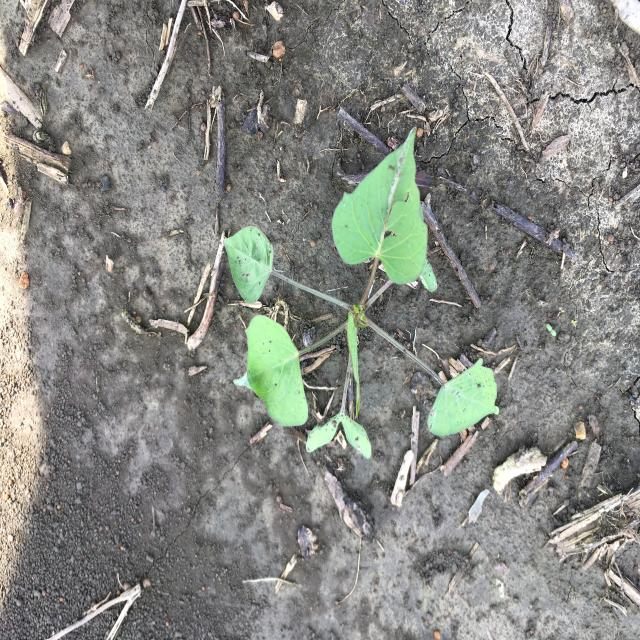MorningGlory: (221, 124, 503, 460)
